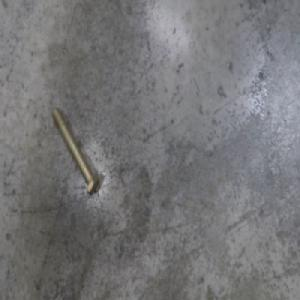Bolt: (50, 103, 101, 197)
